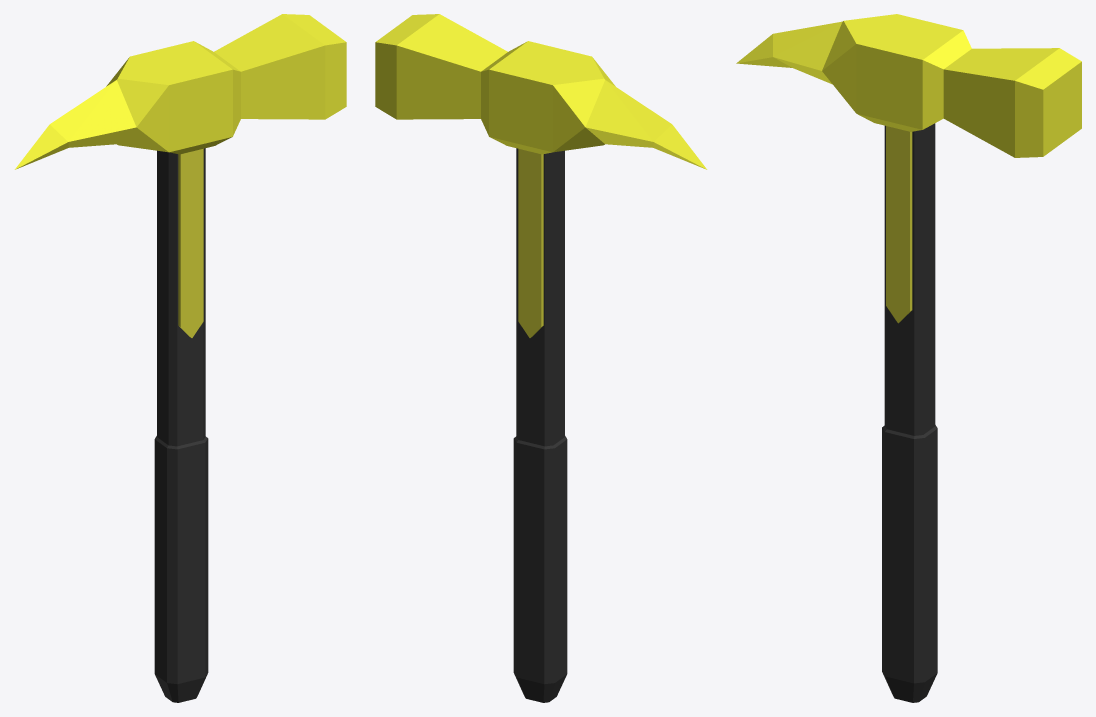
File: warhammer.fbx
The picture shows the model from 3 angles, left to right: view 1: azimuth 30°, elevation 25°; view 2: azimuth 150°, elevation 25°; view 3: azimuth 330°, elevation 25°; orthographic projection. The views are drawn at different scales.
Parts seen in each view (by area): view 1: warhammer; view 2: warhammer; view 3: warhammer.
Boxes of the visible parts, x1,y1,x2,y2 form: warhammer: (14,14,346,702); warhammer: (375,14,707,702); warhammer: (736,14,1081,702).
Bounding box in the file's own units: 2.74 × 5.31 × 0.649.
Materials: 1 (1 with a texture image).
